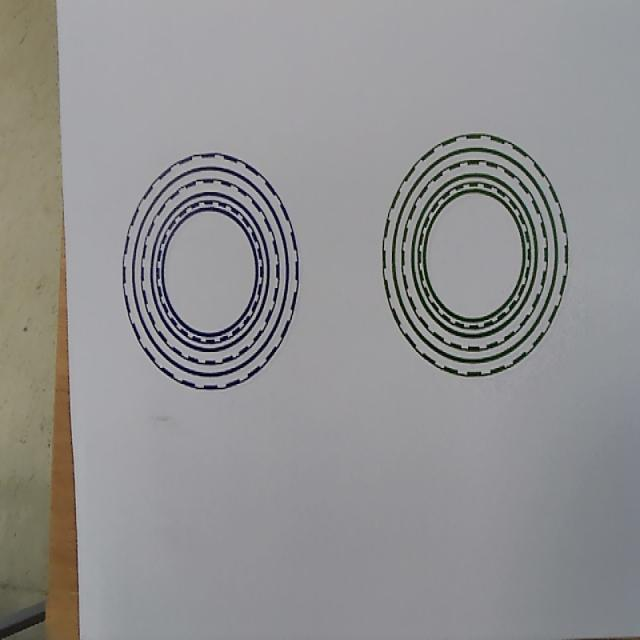b: (121, 152, 300, 394)
g: (380, 130, 570, 380)
